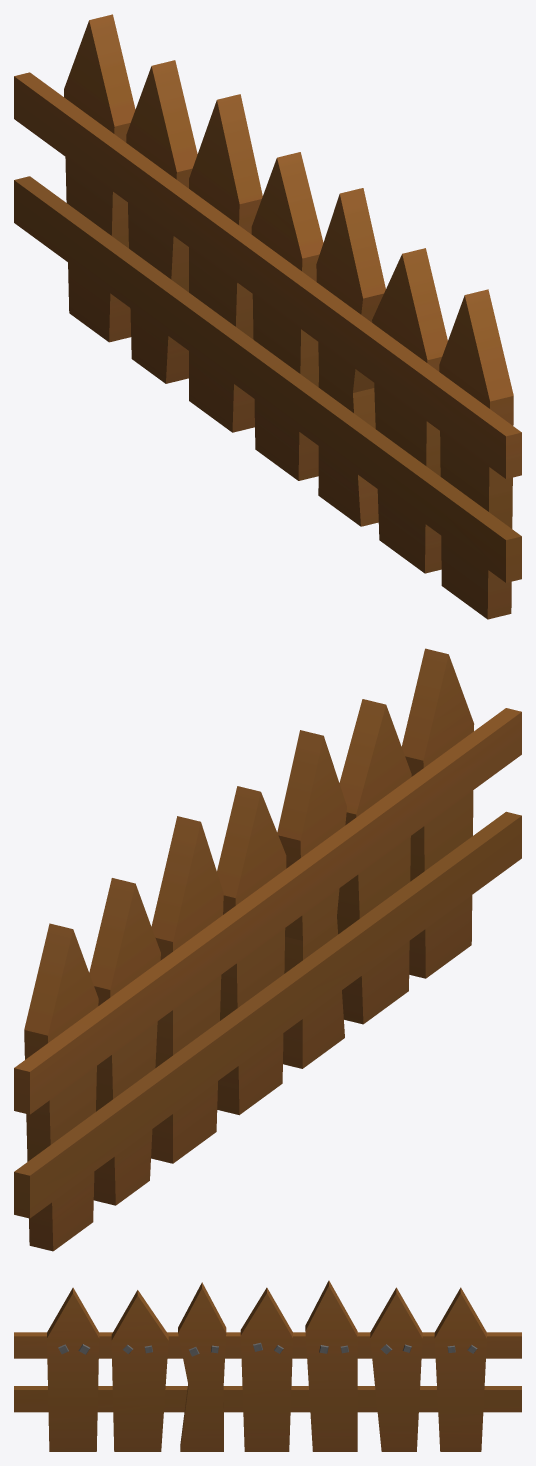
File: Fence_1_B_1.fbx
The picture shows the model from 3 angles, top to bottom: view 1: azimuth 30°, elevation 25°; view 2: azimuth 150°, elevation 25°; view 3: azimuth 270°, elevation 25°; orthographic projection. The views are drawn at different scales.
Visible parts, largest first — view 1: Fence_1_B_1; view 2: Fence_1_B_1; view 3: Fence_1_B_1.
Boxes of the visible parts, bbox=[...] form: Fence_1_B_1: bbox=[14, 14, 521, 619]; Fence_1_B_1: bbox=[14, 648, 521, 1251]; Fence_1_B_1: bbox=[14, 1280, 521, 1451].
Bounding box in the file's own units: 9.86 × 71.1 × 197.
